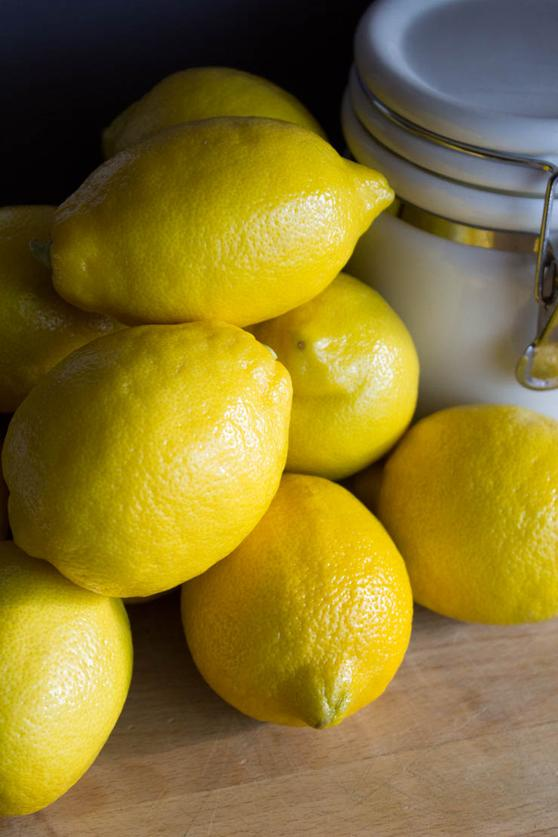lemon: (14, 341, 299, 589), (51, 121, 396, 314)
